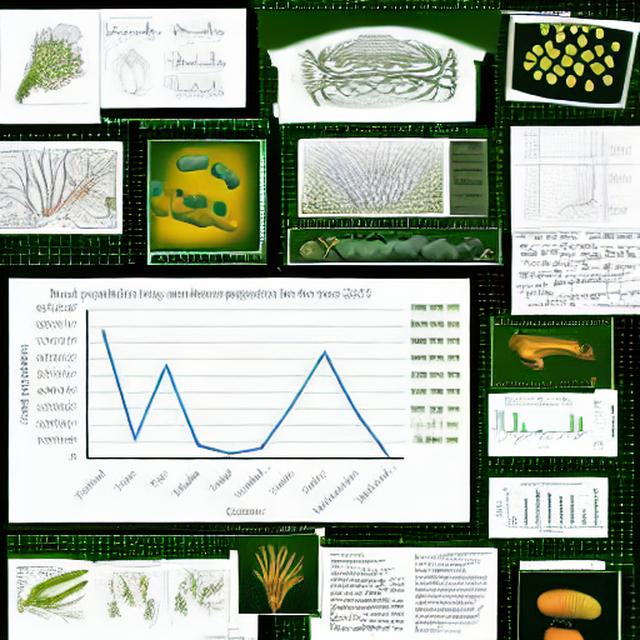Graph: (10, 283, 409, 520), (491, 481, 603, 535), (490, 395, 587, 451), (99, 13, 163, 50), (167, 69, 226, 105), (531, 127, 586, 162)
